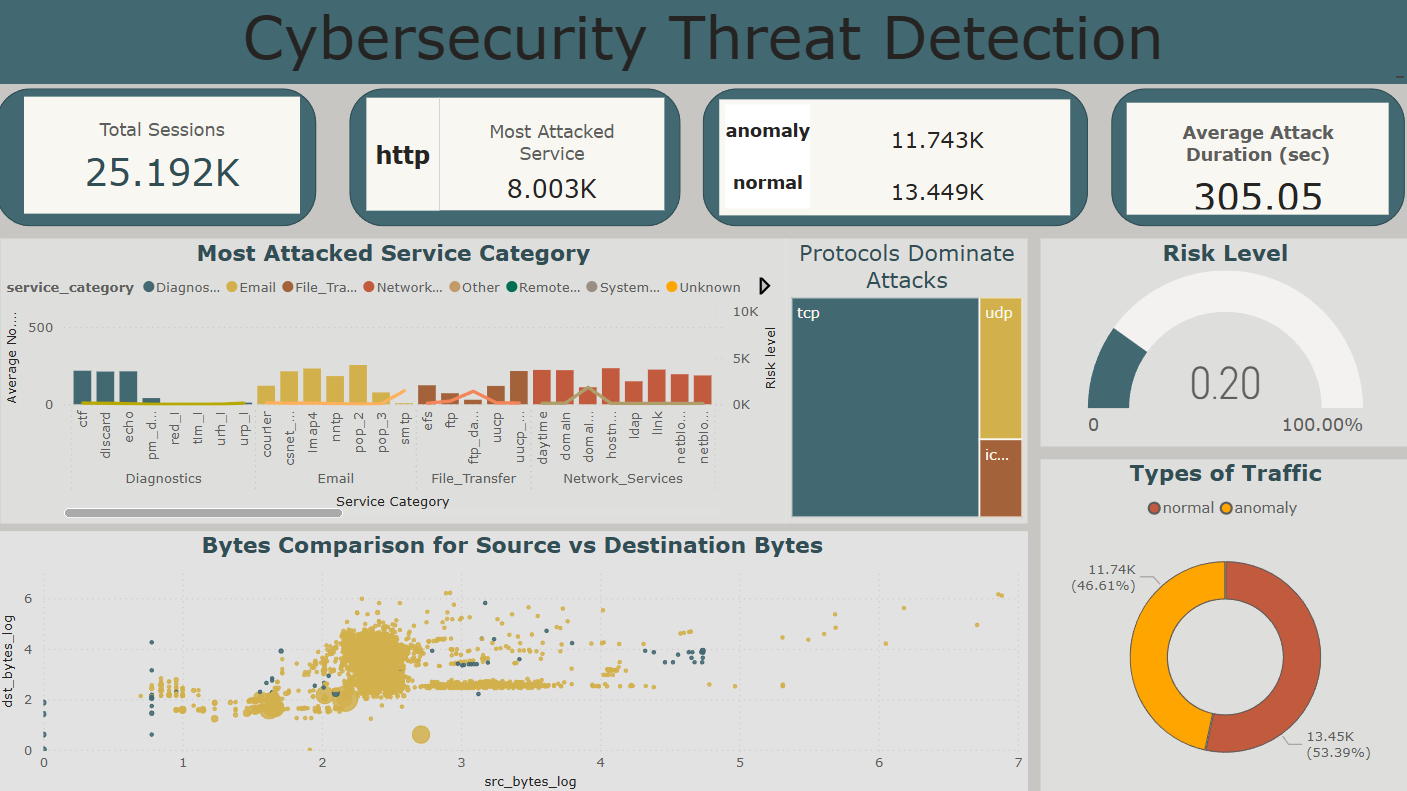

The page's visual inventory and layout, read from the dashboard file:
{"tool":"powerbi","page":{"name":"Summary","canvas":[1280,720],"ordinal":0},"visuals":[{"type":"shape","box":[640,80,349,125],"z":0,"group":"g1"},{"type":"shape","box":[1010,80,266,125],"z":0,"group":"g3"},{"type":"donutChart","title":"Types of Traffic","fields":{"Category":["network-intrusions-clean.class"],"Y":["CountNonNull(network-intrusions-clean.class)"]},"box":[946,416,334,304],"z":0},{"type":"shape","box":[0,80,290.5,125],"z":1000,"group":"g2"},{"type":"shape","box":[320,80,300,125],"z":1000},{"type":"scatterChart","title":"Bytes Comparison for Source vs Destination Bytes","fields":{"Series":["network-intrusions-clean.class"],"X":["network_intrusions_clean.src_bytes_log"],"Y":["network_intrusions_clean.dst_bytes_log"],"Size":["CountNonNull(network_intrusions_clean.wrong_fragment)"]},"box":[0,481,934,239],"z":2000},{"type":"cardVisual","fields":{"Data":["CountNonNull(network_intrusions_clean.class)"]},"box":[0,83.2,300,115.5],"z":3000,"group":"g2"},{"type":"cardVisual","title":"Number of Attacks","fields":{"Data":["CountNonNull(network-intrusions-clean.class)"],"Rows":["network-intrusions-clean.class"]},"box":[655,90,317,105],"z":3000,"group":"g1"},{"type":"gauge","title":"Risk Level","fields":{"Y":["Avg(network_clusters.hot)"],"MinValue":["Min(network_clusters.hot)"],"MaxValue":["Max(network_clusters.hot)"],"TargetValue":["Sum(network_clusters.hot)"]},"box":[946,216,334,189],"z":3000},{"type":"lineStackedColumnComboChart","title":"Most Attacked Service Category","fields":{"Category":["network_clusters.service_category","network_clusters.service"],"Y":["Avg(network_clusters.count)"],"Y2":["CountNonNull(network_clusters.hot)"],"Series":["network_clusters.service_category"]},"box":[4,216,711,258],"z":4000},{"type":"cardVisual","fields":{"Rows":["network-intrusions-clean.service"],"Data":["CountNonNull(network-intrusions-clean.service)"]},"box":[330,64,280,152],"z":5000},{"type":"textbox","title":"Cybersecurity Threat Detection","box":[0,0,1280,76],"z":6000},{"type":"treemap","title":"Protocols Dominate Attacks","fields":{"Group":["network_intrusions_clean.protocol_type"],"Values":["CountNonNull(network_intrusions_clean.class)"]},"box":[715,216,219,258],"z":7000},{"type":"group","id":"g1","title":"Group 2","box":[640,80,349,125],"z":8000},{"type":"group","id":"g2","title":"Group 3","box":[0,80,300,125],"z":9000},{"type":"group","id":"g3","title":"Group 4","box":[1010,80,266,125],"z":10000},{"type":"cardVisual","fields":{"Data":["Avg(network_intrusions_clean.duration)"]},"box":[1024,93,237,102],"z":11000,"group":"g3"}]}

Visuals, with their boxes in screenshot pixels (x1, y1, x2, y2), scaled from the page's 1280x720 canvas onto the 1407x791 screenshot:
shape: 704:88:1087:225
shape: 1110:88:1403:225
"Types of Traffic" donutChart: 1040:457:1406:790
shape: 0:88:319:225
shape: 352:88:682:225
"Bytes Comparison for Source vs Destination Bytes" scatterChart: 0:528:1027:790
cardVisual - CountNonNull(network_intrusions_clean.class): 0:91:330:218
"Number of Attacks" cardVisual: 720:99:1068:214
"Risk Level" gauge: 1040:237:1406:445
"Most Attacked Service Category" lineStackedColumnComboChart: 4:237:786:521
cardVisual - network-intrusions-clean.service x CountNonNull(network-intrusions-clean.service): 363:70:671:237
"Cybersecurity Threat Detection" textbox: 0:0:1406:83
"Protocols Dominate Attacks" treemap: 786:237:1027:521
"Group 2" group: 704:88:1087:225
"Group 3" group: 0:88:330:225
"Group 4" group: 1110:88:1403:225
cardVisual - Avg(network_intrusions_clean.duration): 1126:102:1386:214
